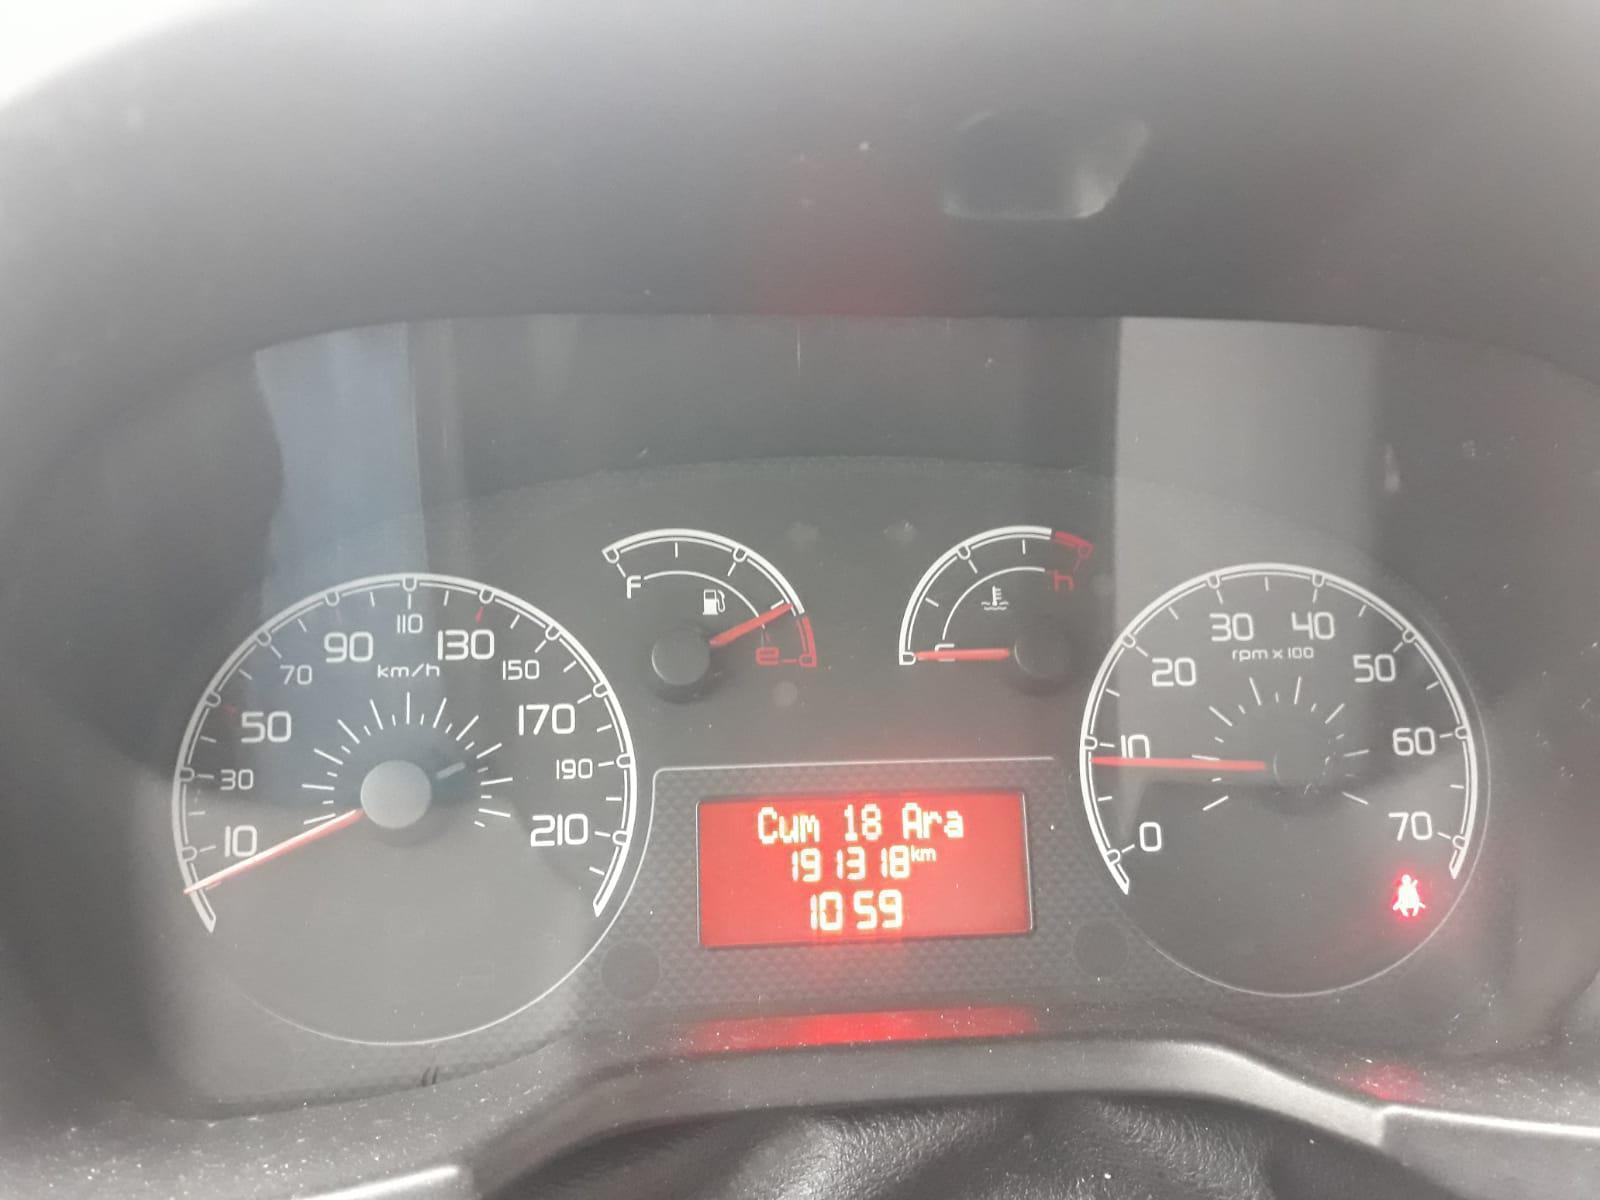0: (818, 887, 845, 932)
1: (838, 800, 859, 845), (804, 890, 818, 933), (830, 846, 844, 881), (876, 845, 888, 880), (787, 848, 800, 882)
3: (845, 845, 867, 881)
5: (850, 887, 877, 932)
8: (859, 800, 883, 843), (887, 843, 910, 880)
9: (877, 887, 905, 929), (800, 846, 823, 884)
X: (753, 802, 779, 848), (898, 799, 922, 841), (779, 811, 800, 847), (944, 807, 964, 842), (923, 805, 944, 841), (800, 812, 821, 845), (920, 845, 937, 862), (910, 842, 920, 863)
odometer: (687, 784, 1041, 954)
